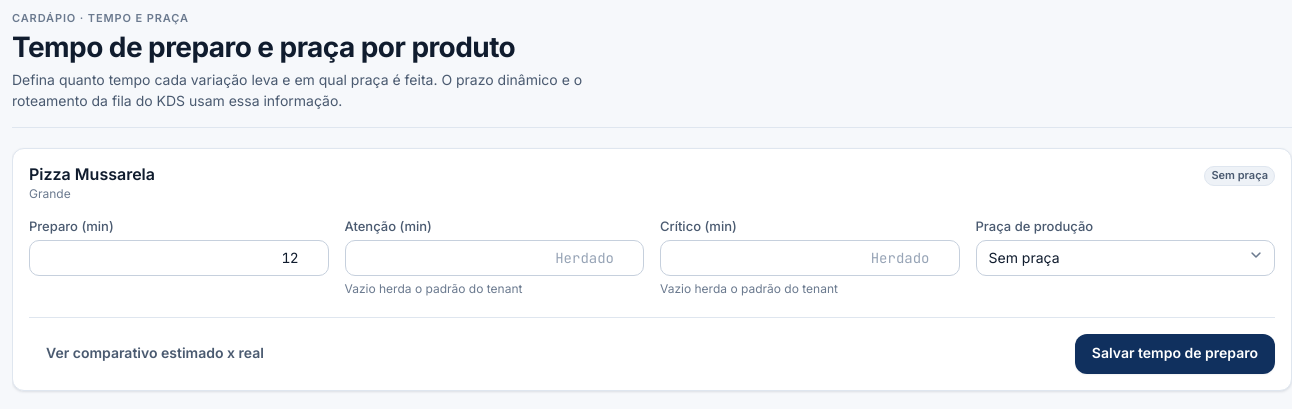
Test: PrepTimePage › reatribui a praça e atualiza a etiqueta assim que o gestor escolhe uma opção
The width and height of the screenshot is (1292, 409).
Expected: the text "Pizza Mussarela" is shown, [29,164,155,184]
Select "Forno" in the dropdown labelled "Praça de produção": (1125, 258) [976,241,1274,275]
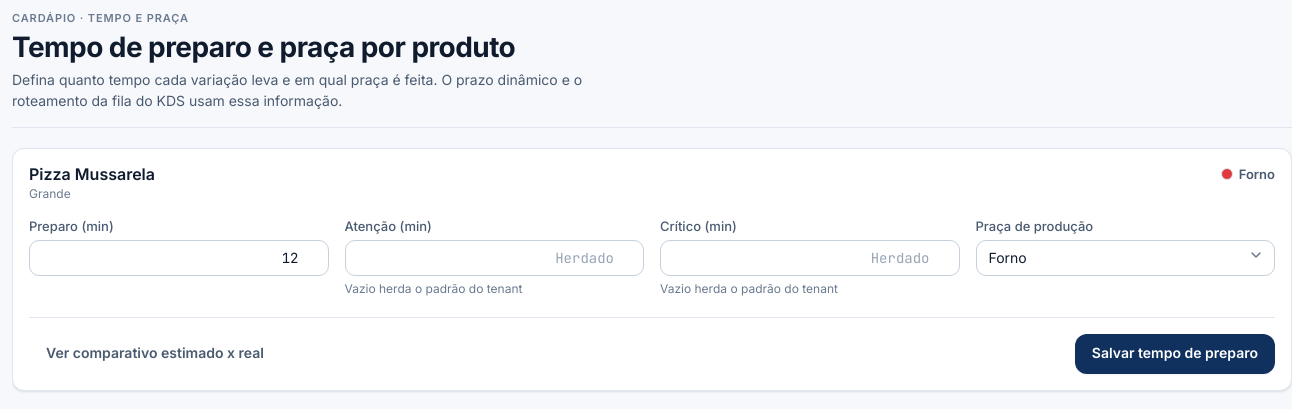
Expected: the text "Forno" is shown, [1221,166,1275,182]
Expected: the text "Sem praça" is gone
